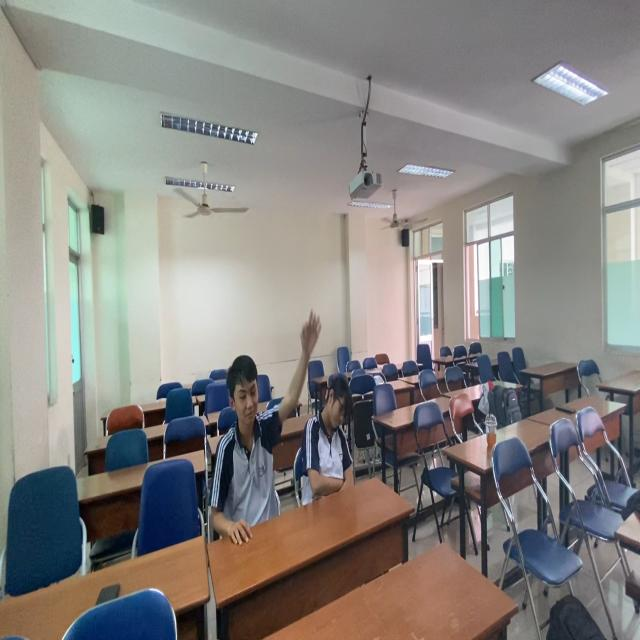raise_hand: (204, 306, 320, 528)
